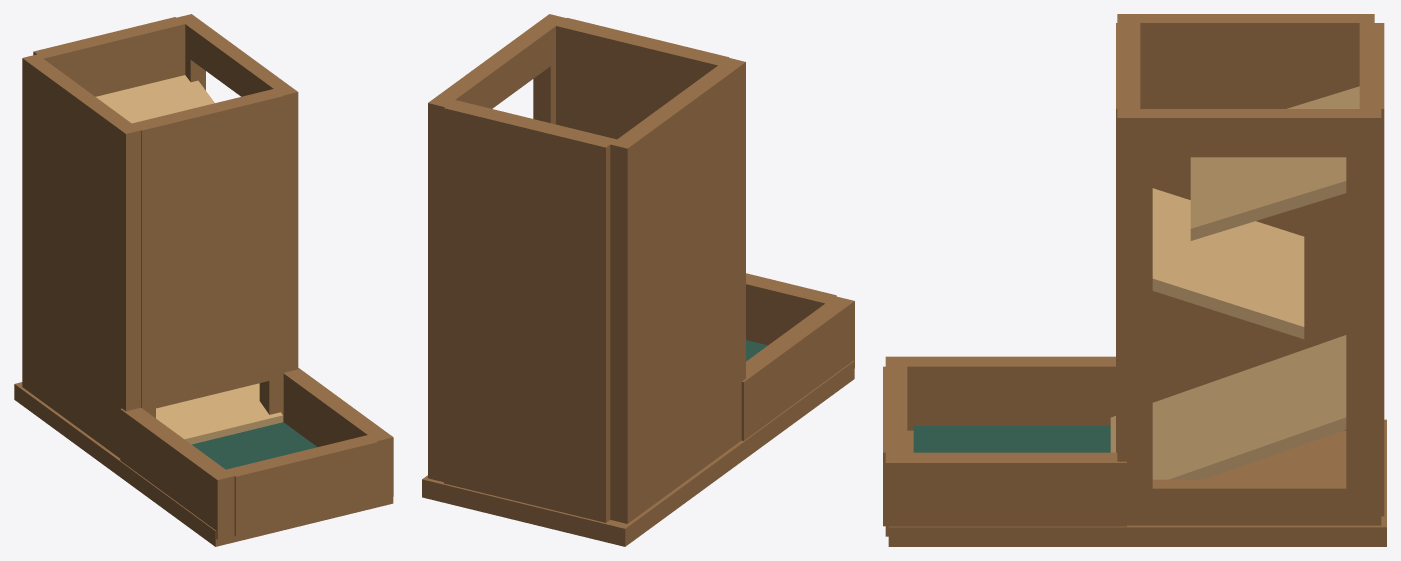
3 views of the same model, side by side, from view 1: azimuth 30°, elevation 25°; view 2: azimuth 150°, elevation 25°; view 3: azimuth 270°, elevation 25° (orthographic). The views are drawn at different scales.
Visible parts, largest first — view 1: WholeFrontWallWithOpenLowExit, WholeLeftTowerWall, WholeTrayEndWall, WholeRightWallWithGenuineObservationOpening, WholeLeftTraySide, WholeRearTowerWall, WholeRightTraySide, WholeGroundFootTowerAndTrayFloor, WholeLowForwardExitRamp, WholeHighBackToFrontDeflector, WholeInsetTrayFloorLiner; view 2: WholeRearTowerWall, WholeLeftTowerWall, WholeFrontWallWithOpenLowExit, WholeRightWallWithGenuineObservationOpening, WholeGroundFootTowerAndTrayFloor, WholeLeftTraySide, WholeTrayEndWall; view 3: WholeRightWallWithGenuineObservationOpening, WholeLeftTowerWall, WholeLowForwardExitRamp, WholeRightTraySide, WholeGroundFootTowerAndTrayFloor, WholeLeftTraySide, WholeMiddleFrontToBackDeflector, WholeHighBackToFrontDeflector, WholeInsetTrayFloorLiner, WholeRearTowerWall, WholeFrontWallWithOpenLowExit, WholeTrayEndWall.
Boxes of the visible parts, bbox=[...] form: WholeFrontWallWithOpenLowExit: bbox=[132, 89, 283, 421]; WholeLeftTowerWall: bbox=[22, 54, 140, 458]; WholeTrayEndWall: bbox=[226, 435, 377, 535]; WholeRightWallWithGenuineObservationOpening: bbox=[177, 14, 298, 372]; WholeLeftTraySide: bbox=[120, 407, 234, 539]; WholeRearTowerWall: bbox=[33, 17, 185, 96]; WholeRightTraySide: bbox=[283, 368, 393, 500]; WholeGroundFootTowerAndTrayFloor: bbox=[14, 382, 393, 546]; WholeLowForwardExitRamp: bbox=[156, 383, 282, 444]; WholeHighBackToFrontDeflector: bbox=[96, 75, 214, 123]; WholeInsetTrayFloorLiner: bbox=[192, 422, 317, 469]; WholeRearTowerWall: bbox=[444, 100, 616, 522]; WholeLeftTowerWall: bbox=[610, 58, 745, 523]; WholeFrontWallWithOpenLowExit: bbox=[556, 18, 729, 139]; WholeRightWallWithGenuineObservationOpening: bbox=[428, 14, 566, 481]; WholeGroundFootTowerAndTrayFloor: bbox=[422, 360, 854, 546]; WholeLeftTraySide: bbox=[741, 296, 854, 440]; WholeTrayEndWall: bbox=[746, 273, 836, 345]; WholeRightWallWithGenuineObservationOpening: bbox=[1117, 109, 1381, 525]; WholeLeftTowerWall: bbox=[1117, 14, 1374, 430]; WholeLowForwardExitRamp: bbox=[1110, 335, 1346, 479]; WholeRightTraySide: bbox=[885, 452, 1126, 536]; WholeGroundFootTowerAndTrayFloor: bbox=[888, 419, 1386, 546]; WholeLeftTraySide: bbox=[885, 356, 1115, 430]; WholeMiddleFrontToBackDeflector: bbox=[1152, 188, 1304, 339]; WholeHighBackToFrontDeflector: bbox=[1190, 86, 1359, 240]; WholeInsetTrayFloorLiner: bbox=[913, 426, 1110, 452]; WholeRearTowerWall: bbox=[1359, 23, 1384, 516]; WholeFrontWallWithOpenLowExit: bbox=[1116, 23, 1140, 452]; WholeTrayEndWall: bbox=[883, 366, 907, 526].
Bounding box in the file's own units: 0.188 × 0.348 × 0.372.
